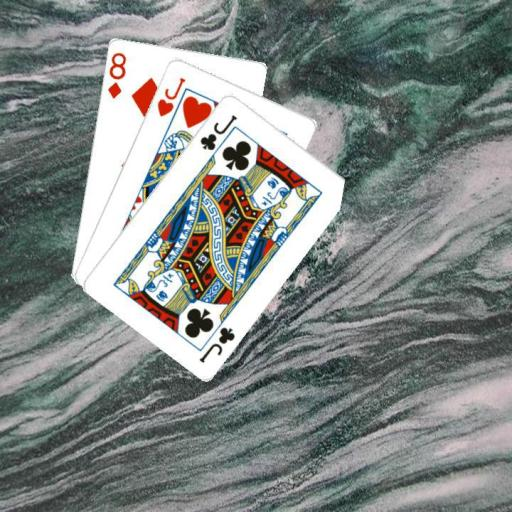8D: (105, 49, 128, 101)
JC: (196, 111, 239, 151), (196, 323, 237, 364)
JH: (154, 74, 187, 118)
